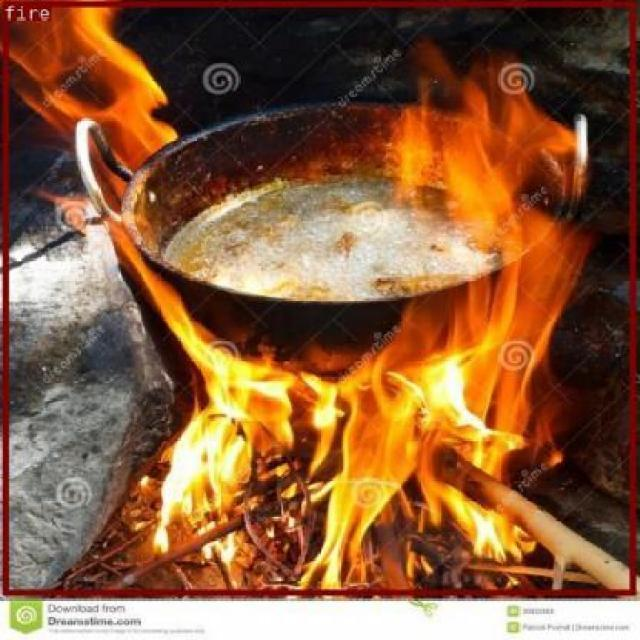Fire: (2, 0, 635, 594)
